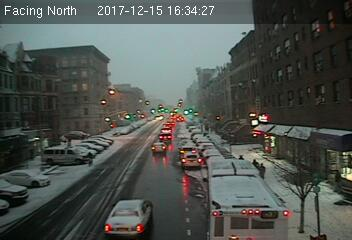bus: (206, 158, 290, 240)
car: (102, 198, 154, 240), (181, 151, 202, 167), (158, 132, 173, 143), (151, 143, 166, 153)
